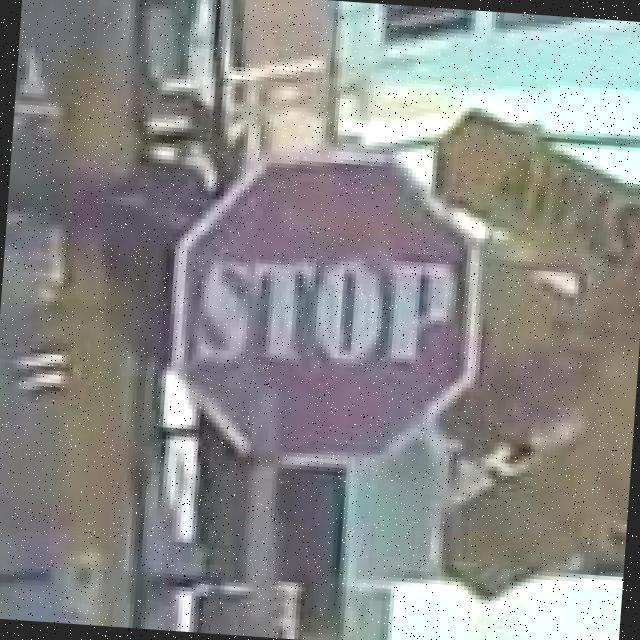Stop: (168, 160, 492, 477)
